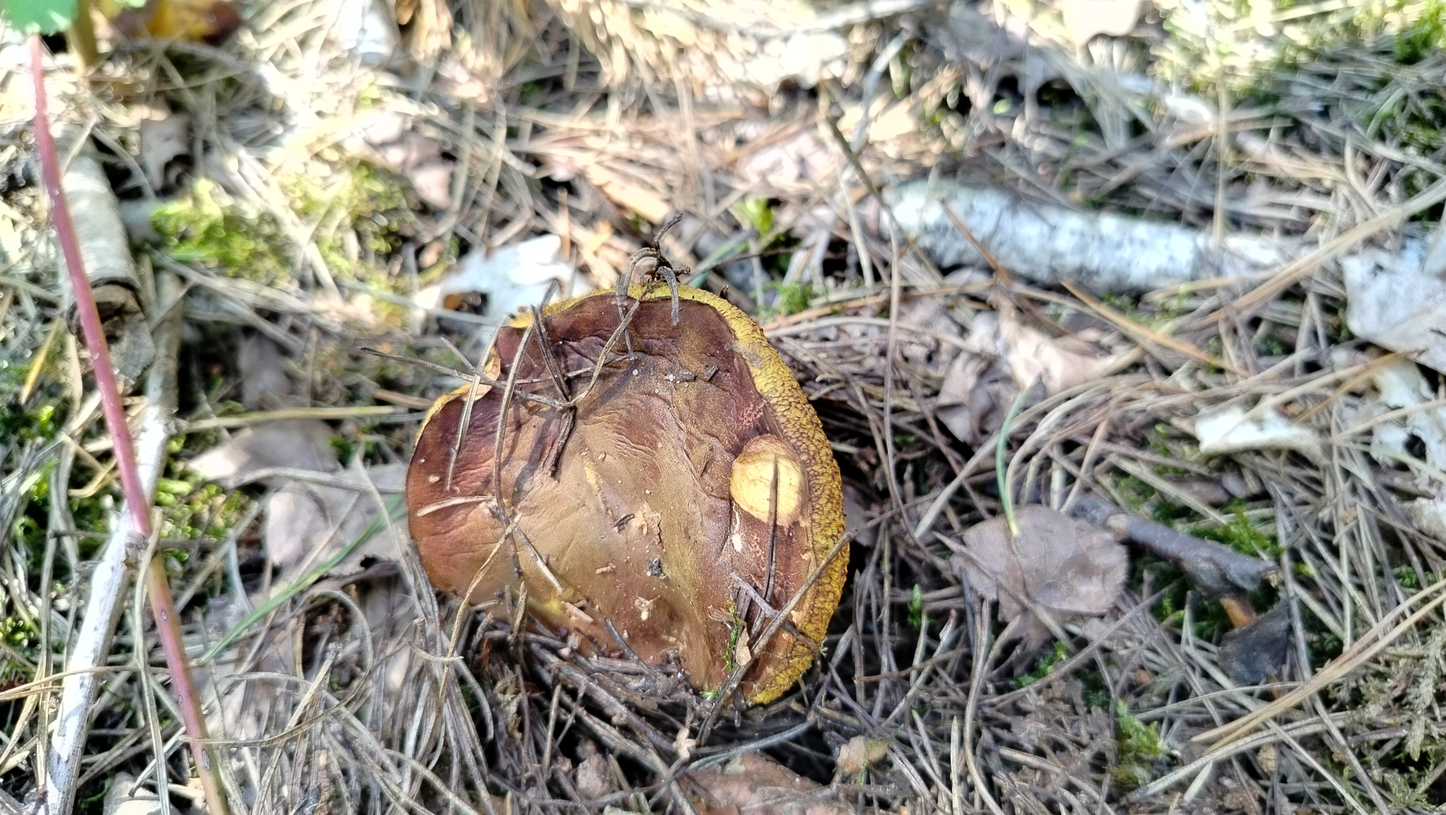cap: (407, 285, 847, 702)
